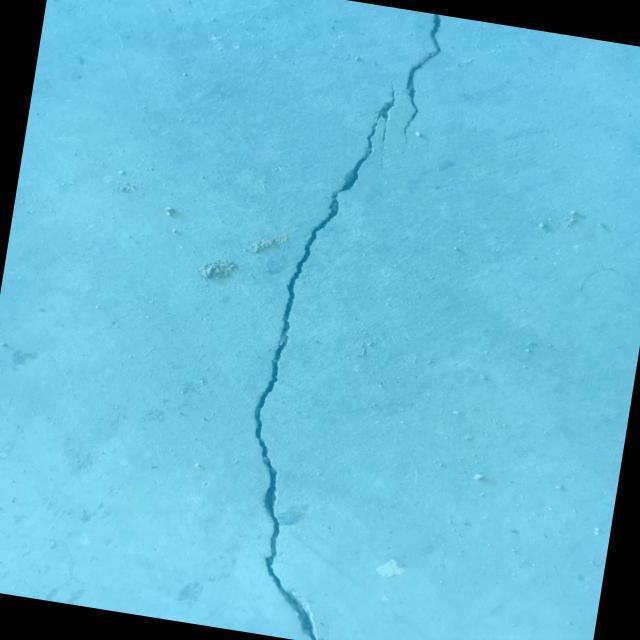crack: (220, 65, 421, 640), (399, 12, 446, 138)
